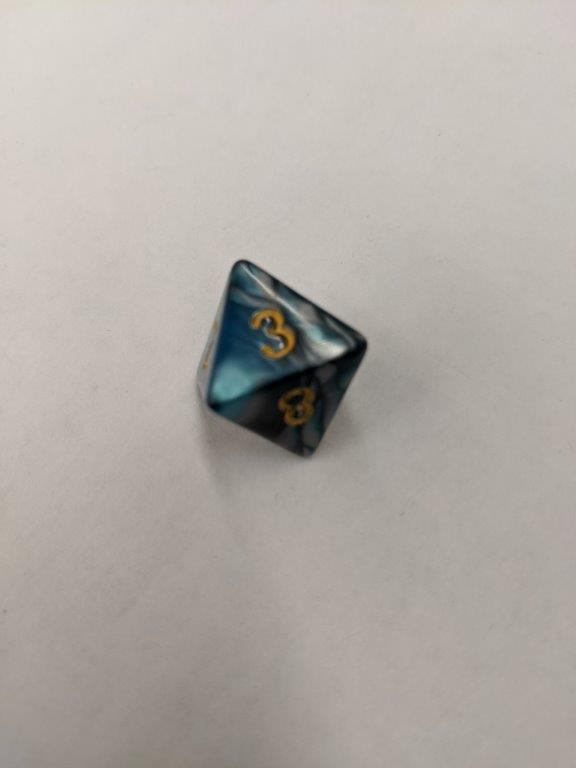d8-3: (196, 258, 367, 462)
